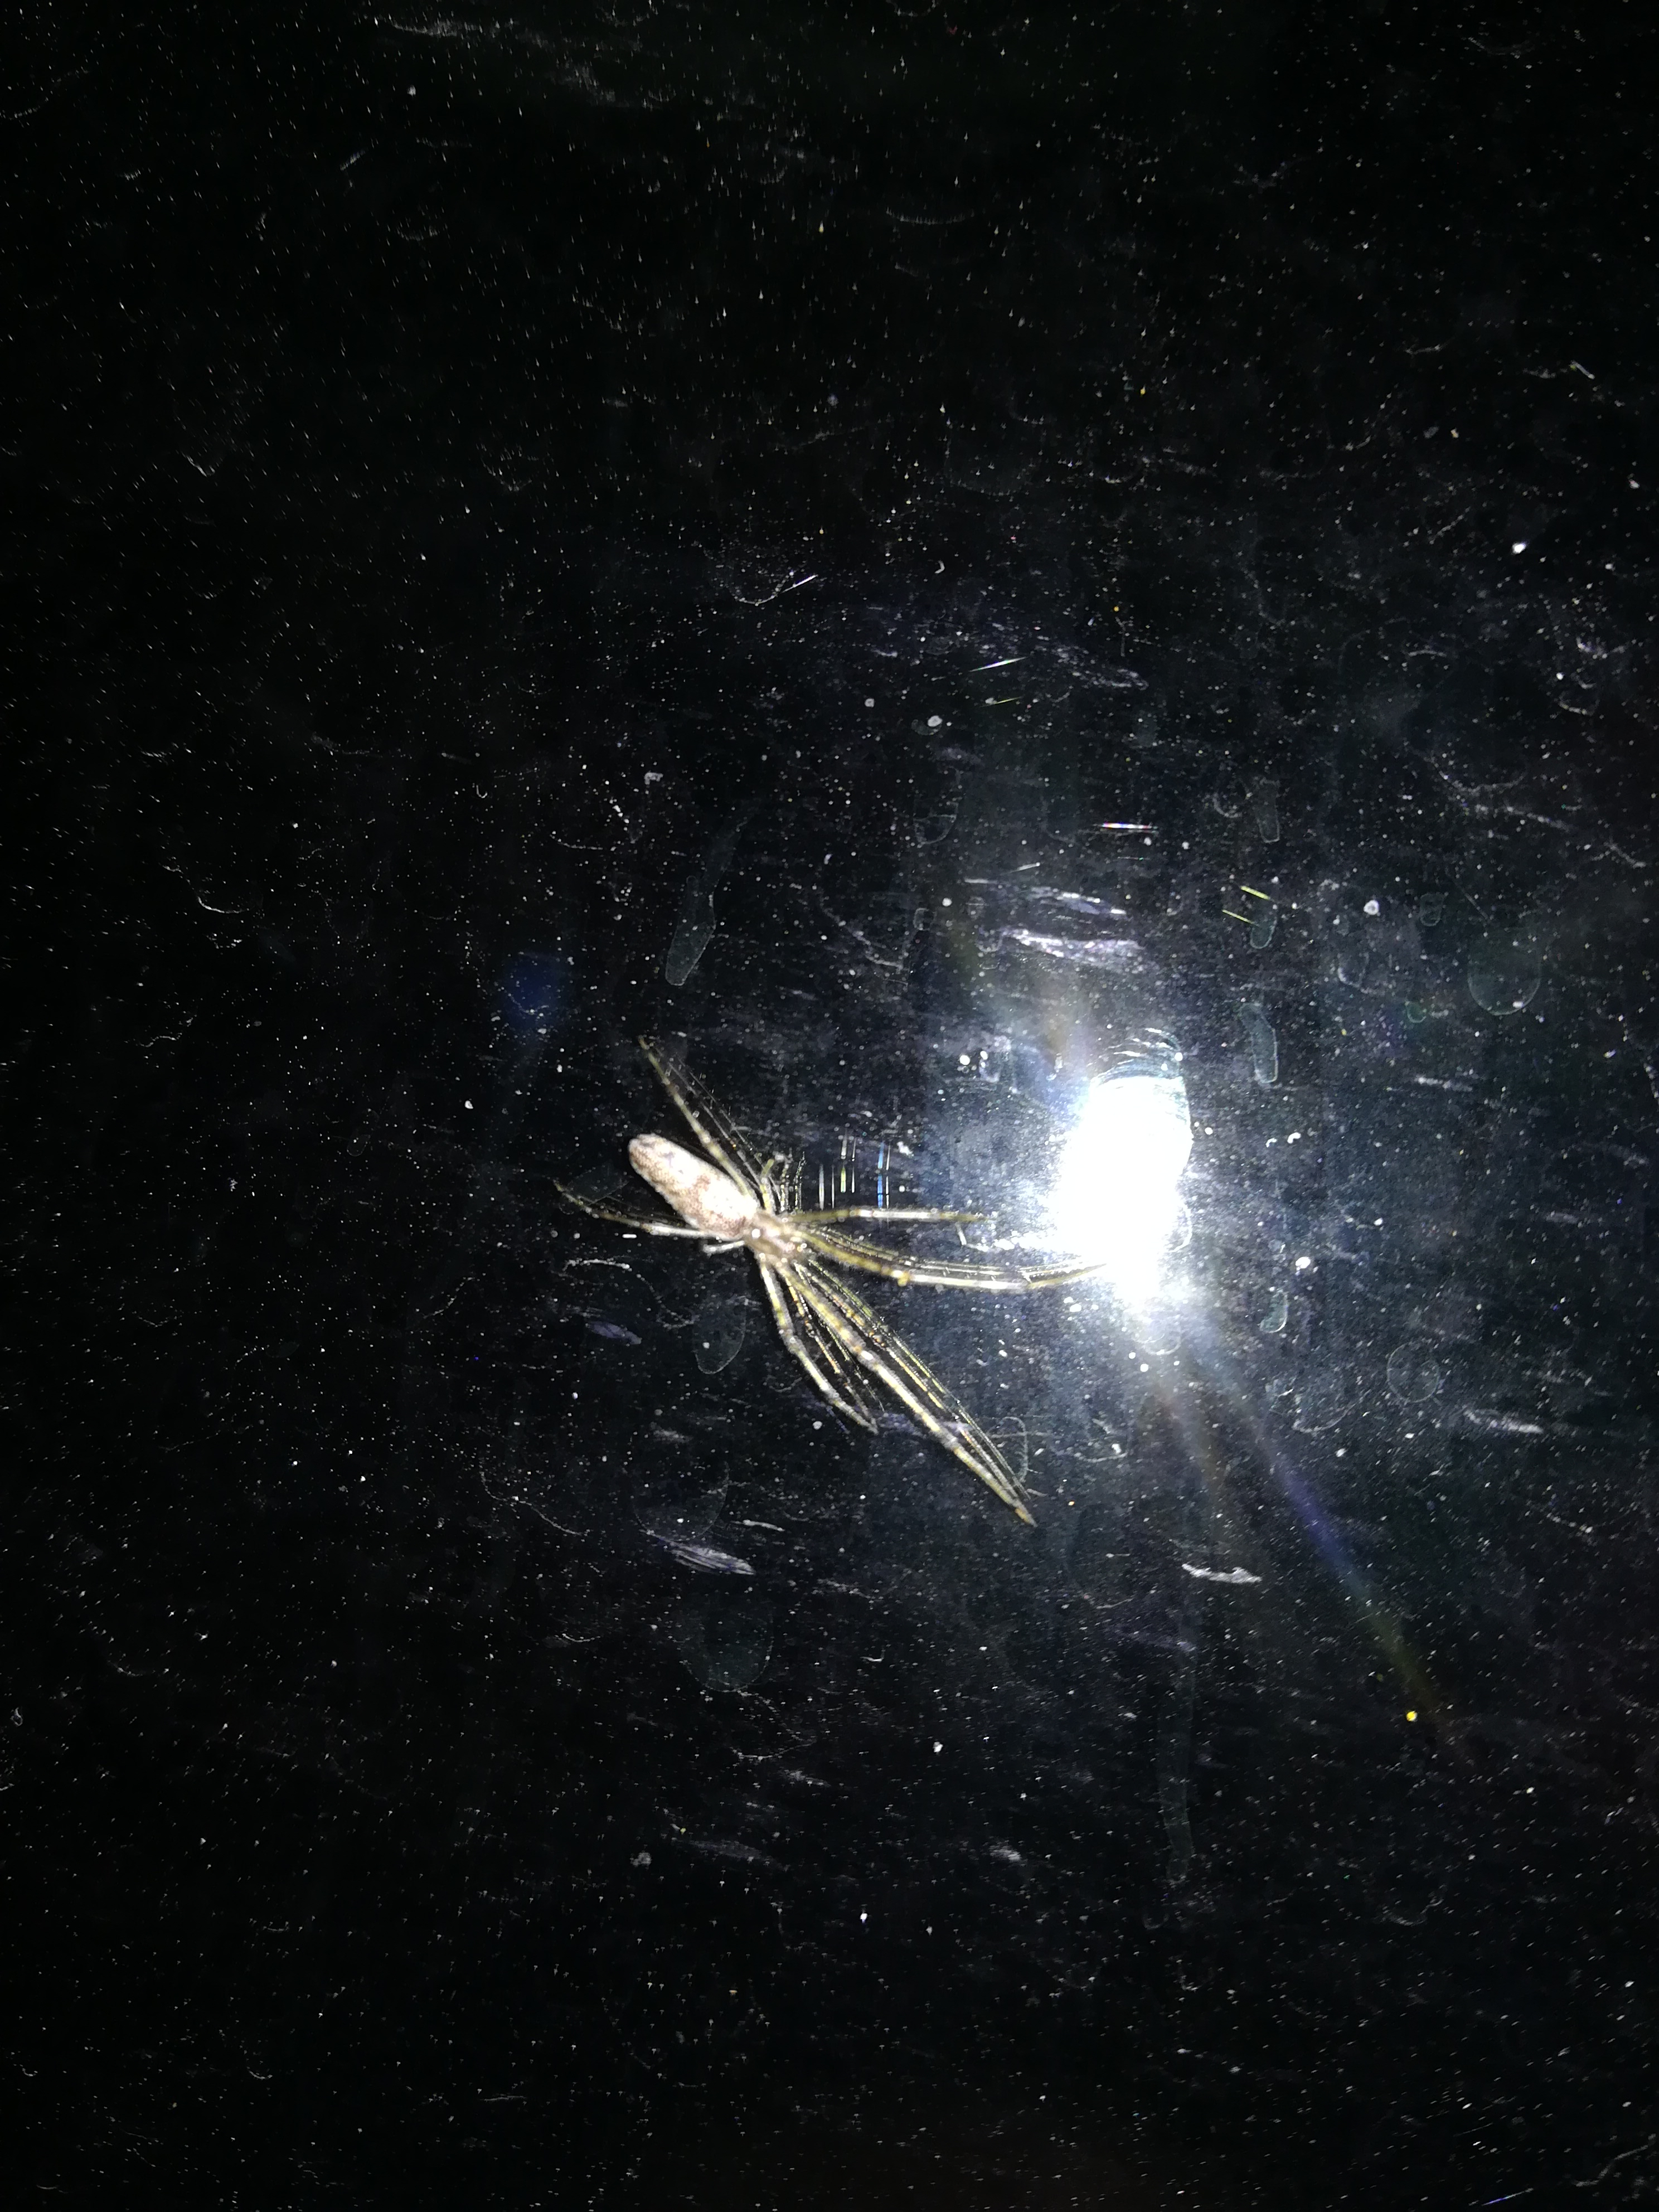spider: (559, 932, 1103, 1597)
